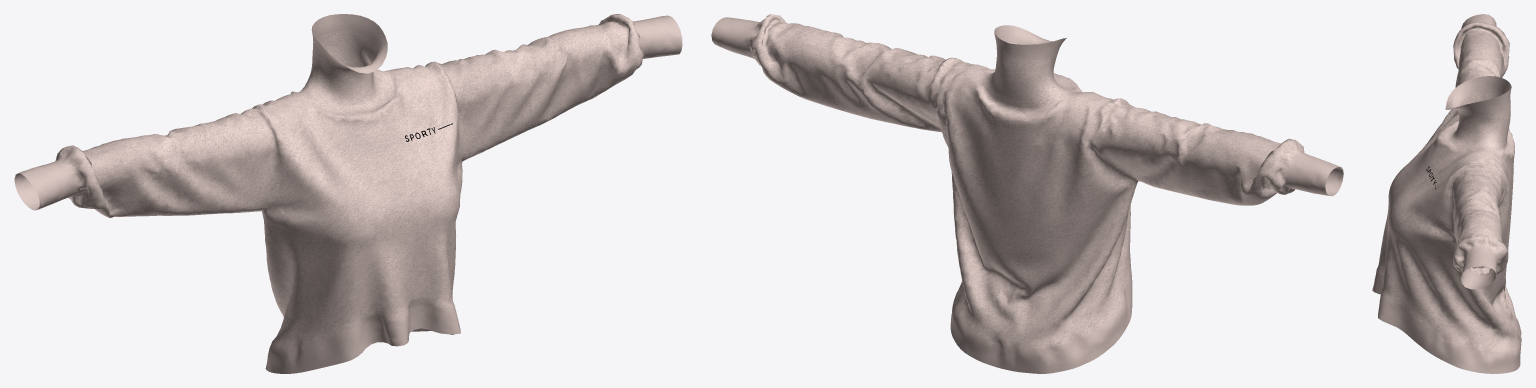
3 renders of one model, left to right at view 1: azimuth 30°, elevation 25°; view 2: azimuth 150°, elevation 25°; view 3: azimuth 270°, elevation 25°, orthographic. The views are drawn at different scales.
Parts seen in each view (by area): view 1: BodyTop; view 2: BodyTop; view 3: BodyTop.
Part boxes in pixels (x1=…): BodyTop: x1=14, y1=14, x2=682, y2=373; BodyTop: x1=711, y1=14, x2=1343, y2=373; BodyTop: x1=1372, y1=14, x2=1521, y2=373.
Bounding box in the file's own units: 1.02 × 0.5092 × 0.2549.
Materials: 10 (10 with a texture image).
